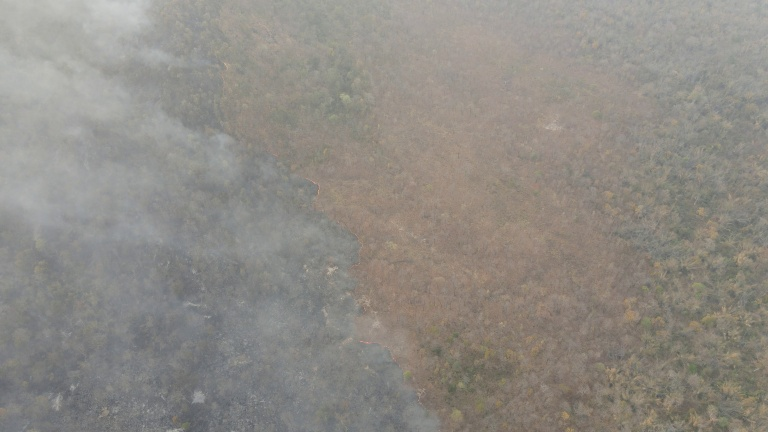smoke: (1, 1, 443, 429)
